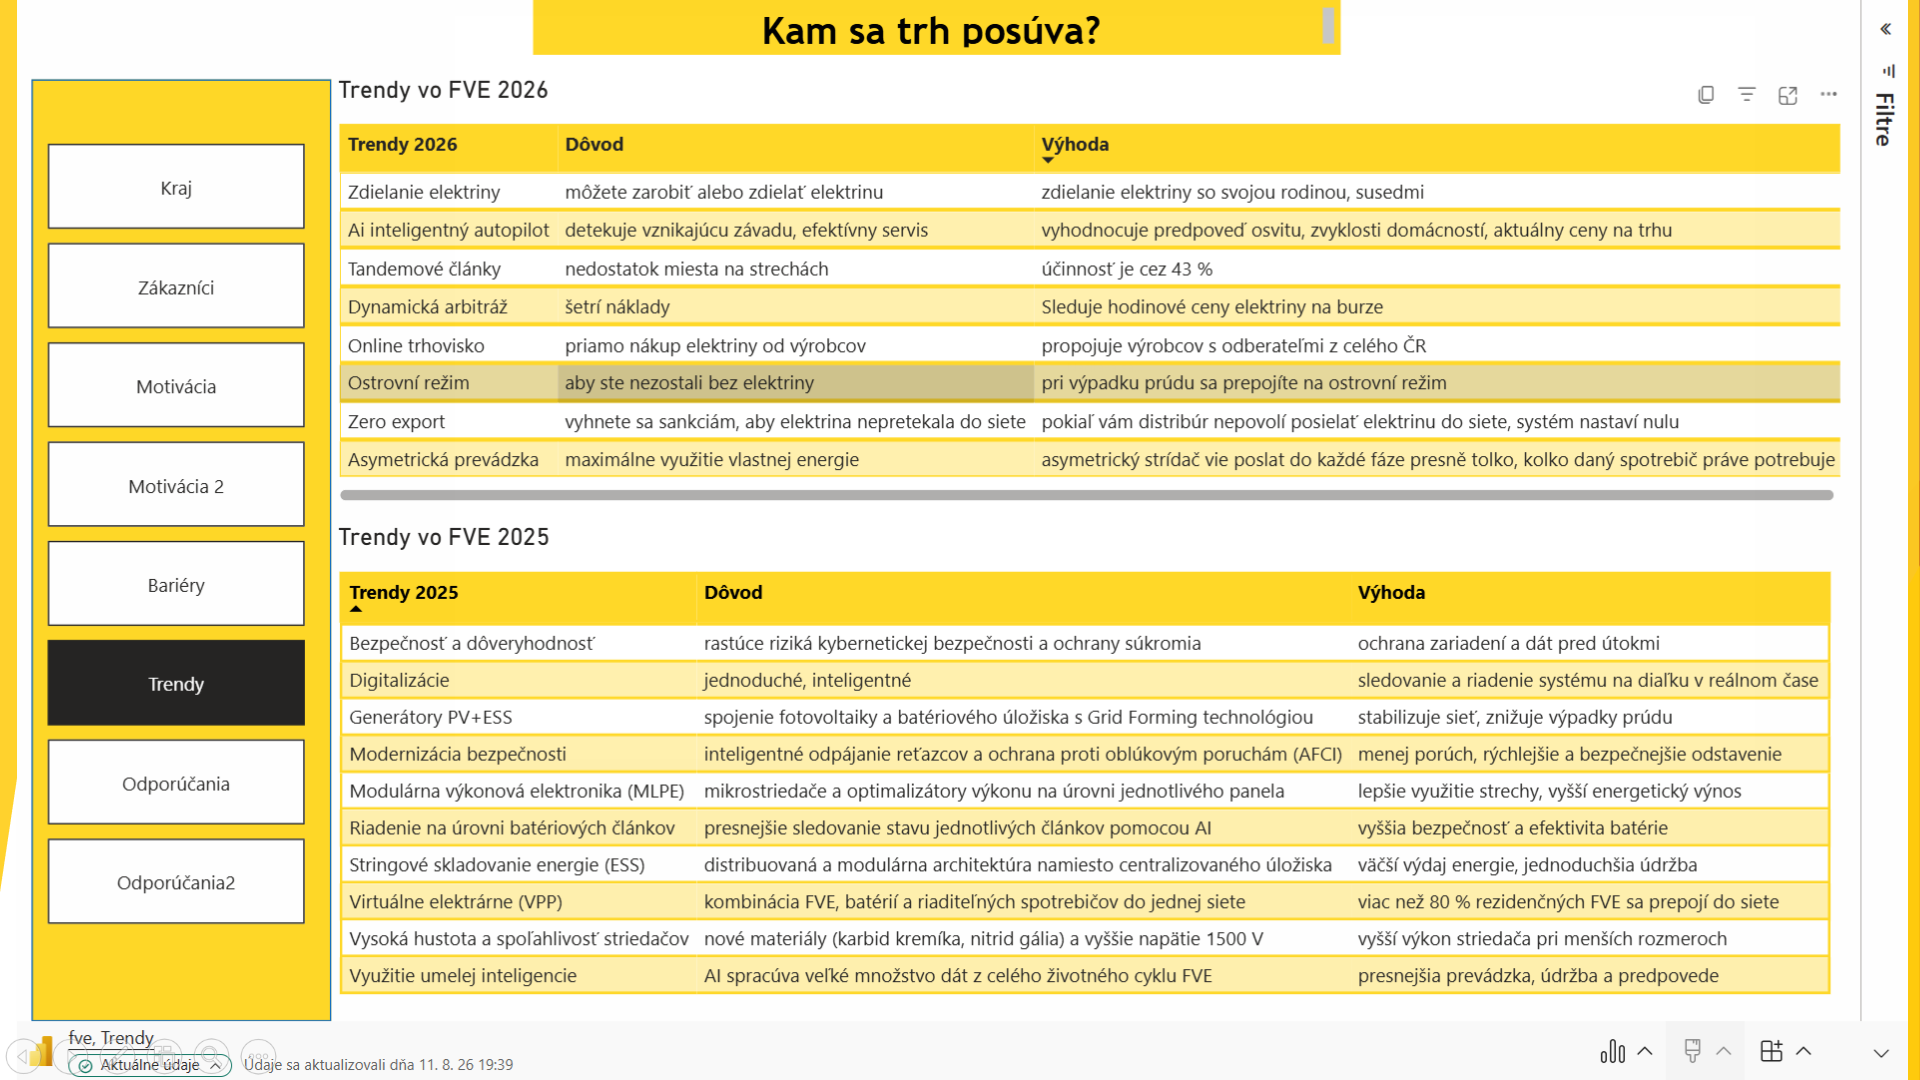

Layout of this report page (visuals, bound fields, positions):
{"tool":"powerbi","page":{"name":"Trendy","canvas":[1280,720],"ordinal":5},"visuals":[{"type":"textbox","box":[354,0,569.5,38.4],"z":0},{"type":"tableEx","title":"Trendy vo FVE 2025","fields":{"Values":["Trendy 2025.Trendy 2025","Trendy 2025.Dôvod","Trendy 2025.Výhoda"]},"box":[211.4,368.6,1069,351.3],"z":1000},{"type":"tableEx","title":"Trendy vo FVE 2026","fields":{"Values":["Trendy 2026.Trendy 2026","Trendy 2026.Dôvod","Trendy 2026.Výhoda"]},"box":[211.4,52.9,1069,306],"z":2000},{"type":"shape","box":[0,55.7,211.4,664.3],"z":2001},{"type":"pageNavigator","box":[11.4,101.4,181.4,551.4],"z":2002}]}

Visuals, with their boxes on the page's 1280x720 design canvas (x1, y1, x2, y2). These are canvas units, not pixel positions in the 1920x1080 screenshot, which may show the page scaled, cropped or inside an application window:
textbox: bbox(354, 0, 924, 38)
"Trendy vo FVE 2025" tableEx: bbox(211, 369, 1280, 720)
"Trendy vo FVE 2026" tableEx: bbox(211, 53, 1280, 359)
shape: bbox(0, 56, 211, 720)
pageNavigator: bbox(11, 101, 193, 653)
